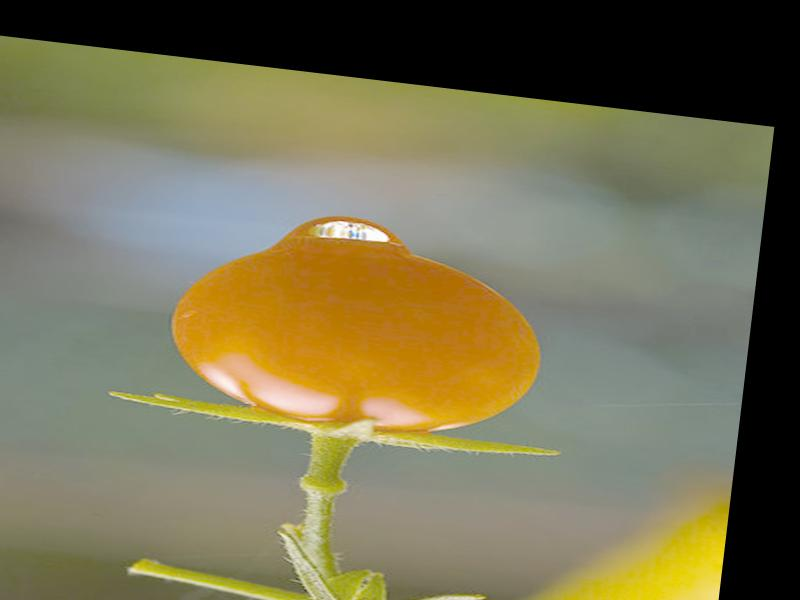Tomato: (158, 225, 548, 449)
